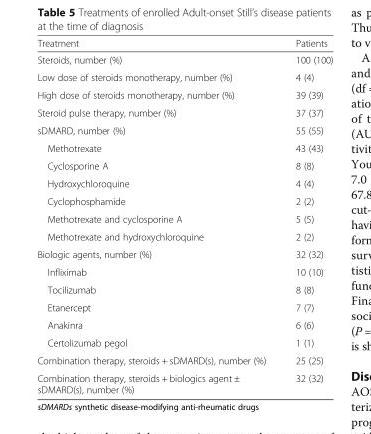table: (36, 37, 332, 394)
table column: (36, 37, 280, 394), (280, 37, 332, 394)
table column header: (36, 37, 332, 50)
table row: (36, 368, 332, 394), (36, 50, 332, 68), (36, 85, 332, 103), (36, 103, 332, 121), (36, 138, 332, 156), (36, 156, 332, 174), (36, 174, 332, 192), (36, 209, 332, 227), (36, 227, 332, 245), (36, 262, 332, 280), (36, 280, 332, 298), (36, 315, 332, 333), (36, 333, 332, 351), (36, 68, 332, 85), (36, 121, 332, 138), (36, 192, 332, 209), (36, 245, 332, 262), (36, 298, 332, 315), (36, 351, 332, 368), (36, 37, 332, 50)
